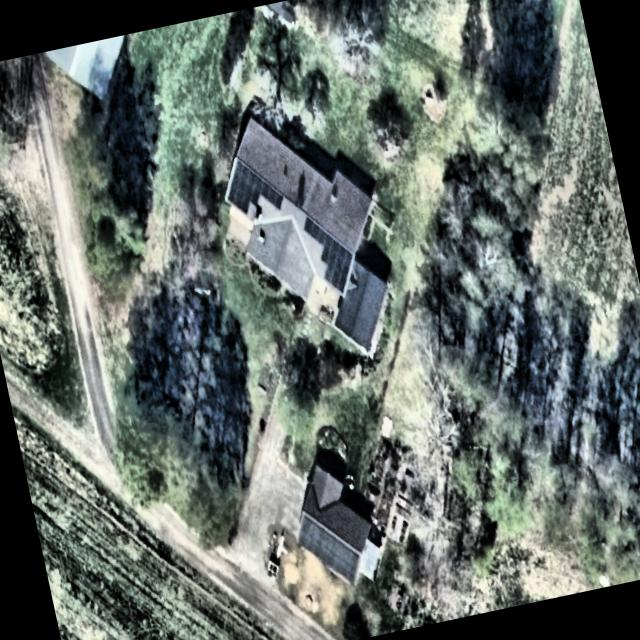roof_pv: (292, 506, 364, 590), (301, 212, 361, 302), (218, 150, 288, 221)
